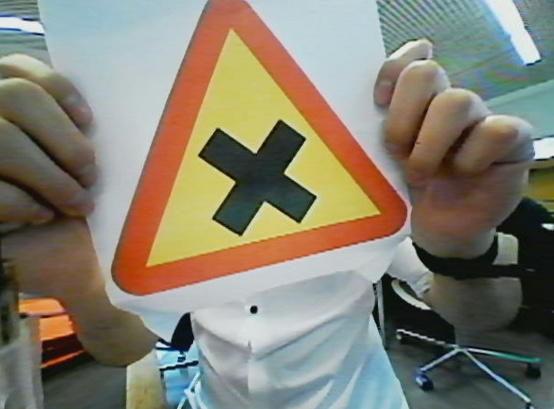junction: (95, 7, 397, 301)
